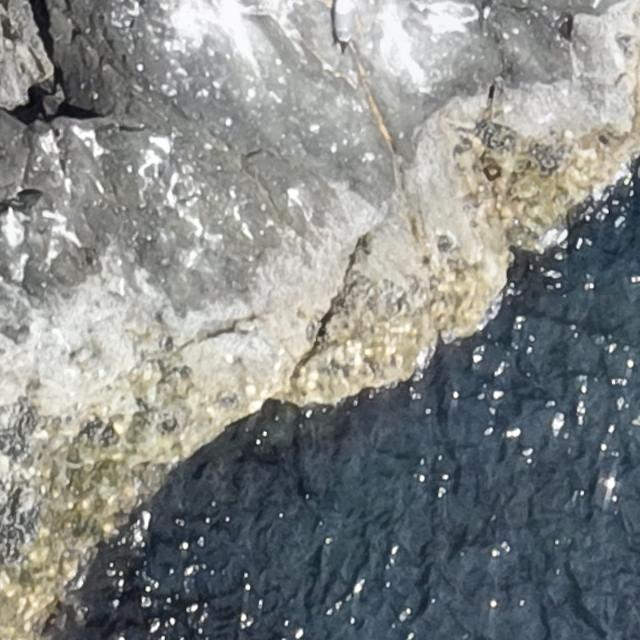umineko: (334, 3, 352, 42)
